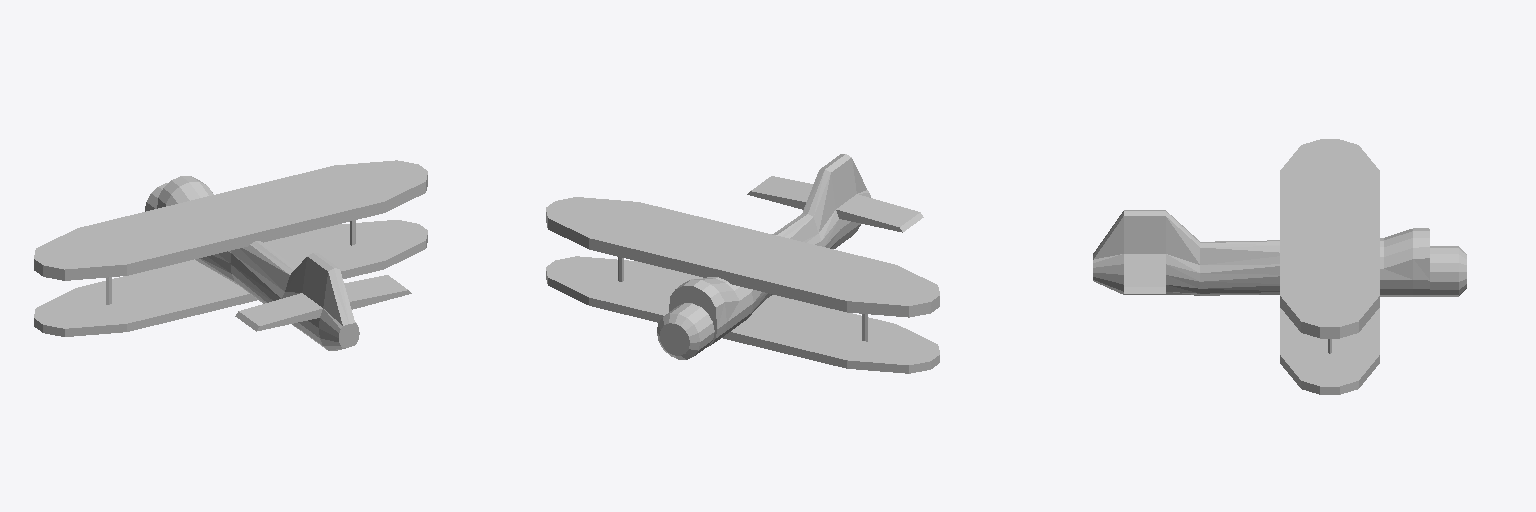
Rendered from ship1.obj.
The picture shows the model from 3 angles: view 1: azimuth 30°, elevation 25°; view 2: azimuth 150°, elevation 25°; view 3: azimuth 270°, elevation 25°; orthographic projection.
Visible parts, largest first — view 1: propeller_plane_Cube.003; view 2: propeller_plane_Cube.003; view 3: propeller_plane_Cube.003.
Boxes of the visible parts, <box> form: propeller_plane_Cube.003: <box>34,160,427,350</box>; propeller_plane_Cube.003: <box>546,154,939,373</box>; propeller_plane_Cube.003: <box>1093,139,1466,394</box>.
Size of the model in its own units: 5.32 by 1.19 by 4.46.